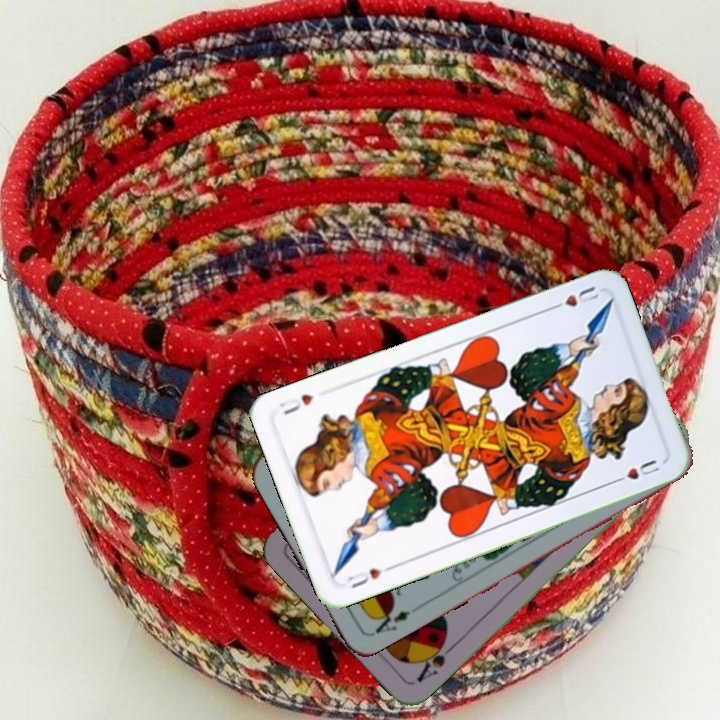EA: (366, 602, 413, 639)
HU: (545, 282, 602, 313), (343, 561, 396, 591)
SA: (412, 633, 458, 685)
